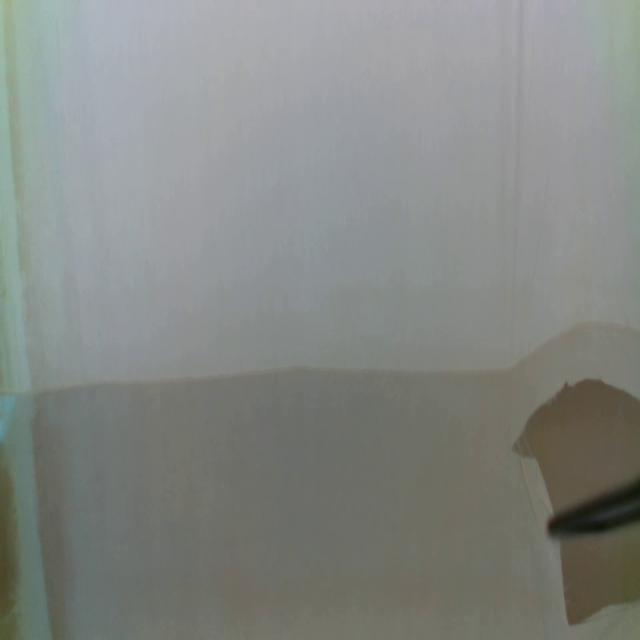color bleeding: (0, 339, 512, 640), (0, 0, 75, 634)
hole: (512, 376, 640, 484), (559, 541, 640, 625)
